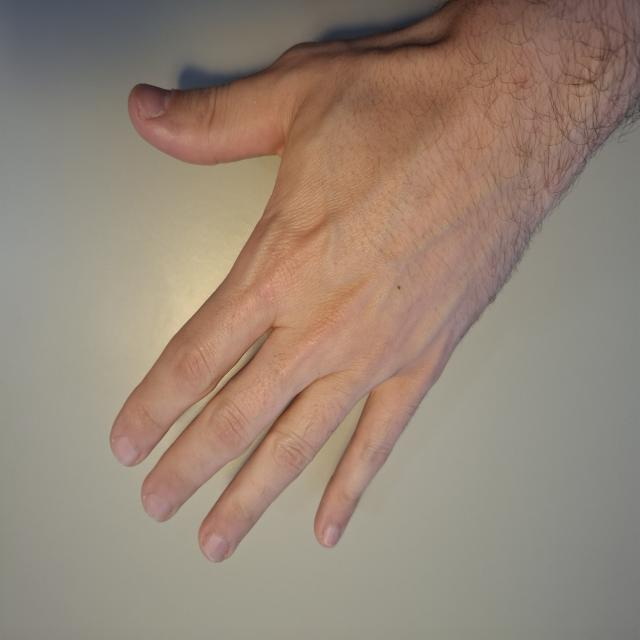glove_off: (106, 25, 562, 566)
